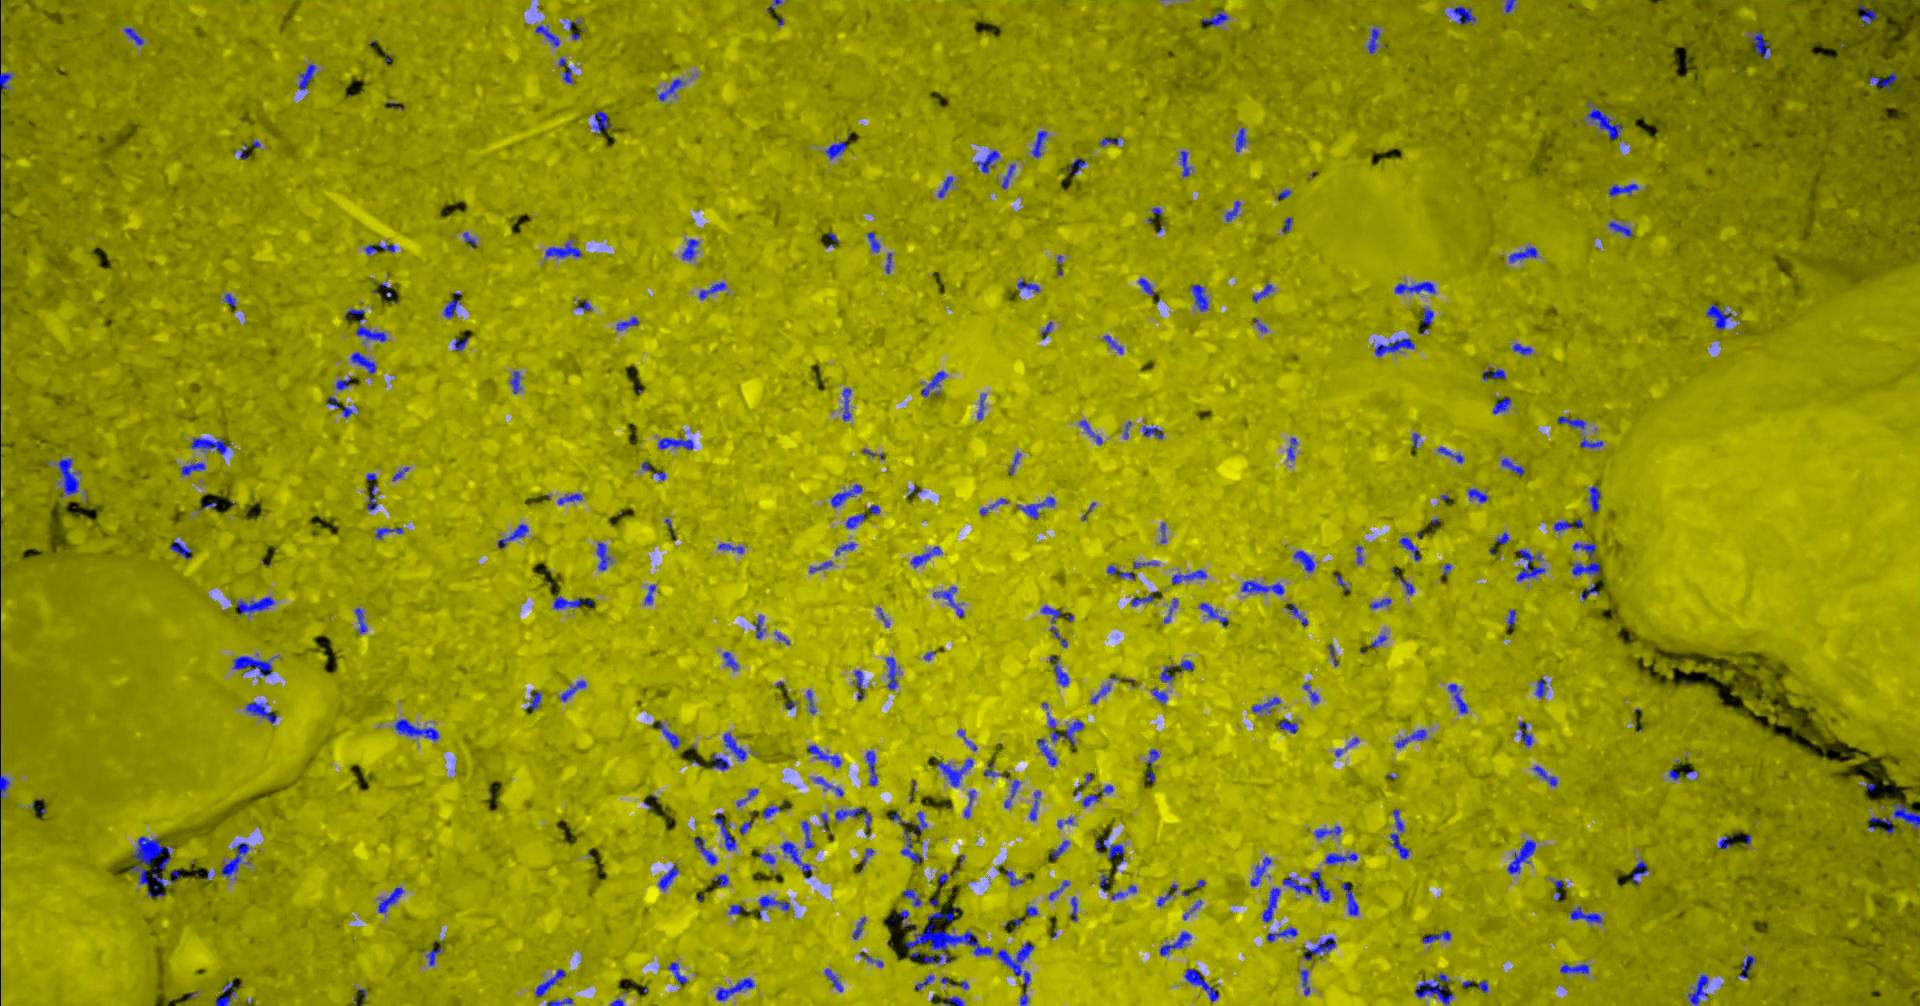ant: (131, 836, 170, 897), (1041, 702, 1083, 746), (996, 941, 1032, 986), (1283, 871, 1330, 902), (345, 307, 386, 340), (900, 810, 926, 862), (780, 840, 811, 878), (1415, 973, 1453, 1005), (1587, 105, 1622, 138), (1183, 968, 1218, 1001), (1040, 605, 1067, 647), (394, 718, 439, 741), (834, 807, 871, 835), (220, 842, 249, 876), (936, 758, 971, 786), (1516, 547, 1545, 580), (1506, 840, 1535, 873), (932, 586, 963, 616), (1571, 542, 1599, 575), (1015, 495, 1054, 518), (715, 977, 754, 1000), (535, 968, 565, 997), (1390, 809, 1408, 857), (1095, 835, 1125, 862), (232, 653, 272, 674), (714, 812, 735, 850), (55, 459, 77, 494), (1374, 337, 1415, 356), (1159, 931, 1191, 955), (1303, 936, 1335, 960), (1892, 801, 1919, 829), (497, 523, 527, 547), (1161, 659, 1192, 682), (808, 744, 841, 766), (919, 370, 946, 396), (1197, 602, 1227, 626), (830, 484, 861, 507), (1705, 304, 1732, 329), (236, 596, 274, 614), (723, 732, 745, 761), (1250, 856, 1271, 887), (377, 887, 403, 912), (657, 77, 684, 100), (658, 720, 681, 748), (693, 836, 716, 864), (1393, 728, 1426, 747), (1239, 580, 1284, 594), (910, 546, 941, 567), (1048, 655, 1068, 686), (245, 701, 276, 721), (1688, 974, 1708, 1005), (825, 133, 850, 159), (545, 240, 582, 257), (190, 437, 227, 453), (1749, 30, 1770, 58), (814, 776, 843, 796), (1262, 887, 1279, 922), (1078, 420, 1102, 445), (974, 150, 999, 173), (559, 680, 585, 701), (1036, 738, 1057, 766), (1448, 683, 1467, 713), (350, 351, 375, 373), (1531, 765, 1557, 786), (1341, 882, 1357, 915), (1171, 569, 1206, 584), (658, 864, 678, 890), (1570, 906, 1601, 922), (1284, 603, 1307, 626), (1145, 748, 1161, 782), (1394, 281, 1435, 293), (1266, 926, 1297, 942), (1868, 71, 1896, 89), (1030, 130, 1048, 158), (1398, 537, 1420, 560), (535, 25, 559, 46), (215, 981, 235, 1005), (1251, 696, 1280, 713), (298, 64, 316, 90), (1190, 285, 1208, 311), (1868, 815, 1895, 833), (1293, 550, 1314, 572), (1048, 879, 1069, 901), (758, 894, 789, 909), (698, 282, 726, 298), (979, 498, 1007, 514), (1451, 5, 1476, 24), (592, 111, 611, 135), (443, 292, 461, 318), (1437, 446, 1463, 464), (865, 749, 877, 785), (1630, 860, 1648, 885), (1201, 9, 1228, 25), (667, 962, 687, 983), (1509, 246, 1537, 262), (552, 594, 583, 608), (1003, 779, 1018, 807), (657, 437, 693, 448), (885, 655, 898, 688), (737, 788, 758, 807), (1858, 3, 1876, 25), (681, 238, 698, 260), (1110, 884, 1137, 899), (824, 968, 842, 991), (596, 542, 610, 570), (1106, 565, 1134, 579), (557, 57, 573, 83), (1608, 183, 1638, 196), (1252, 282, 1272, 301), (957, 729, 977, 749), (169, 540, 190, 558), (1501, 457, 1524, 474), (1738, 954, 1755, 977), (1553, 518, 1582, 531), (963, 789, 975, 818), (1421, 930, 1450, 942), (1608, 221, 1632, 236), (1517, 721, 1533, 746), (858, 951, 883, 967), (1090, 683, 1109, 702), (123, 27, 143, 44), (709, 752, 729, 770), (1001, 163, 1015, 188), (1557, 415, 1585, 428), (800, 821, 813, 848), (1103, 335, 1123, 353), (1397, 575, 1415, 594), (1314, 826, 1341, 838), (1163, 598, 1177, 622), (1302, 682, 1318, 702), (1324, 854, 1357, 864), (937, 868, 957, 884), (1029, 791, 1040, 821), (937, 175, 952, 197), (1224, 199, 1239, 221), (1142, 424, 1163, 439), (1275, 718, 1297, 733), (354, 607, 367, 633), (615, 316, 637, 330), (375, 527, 403, 539), (1137, 277, 1154, 295), (1050, 840, 1068, 857), (1004, 869, 1023, 885), (364, 244, 395, 254), (844, 513, 865, 528), (526, 691, 541, 711), (1481, 367, 1505, 380), (1578, 436, 1603, 448), (180, 462, 204, 475), (1368, 27, 1379, 53), (1178, 150, 1190, 177), (366, 484, 377, 511), (1589, 485, 1600, 512), (1467, 488, 1488, 502), (1559, 963, 1589, 973), (1492, 396, 1510, 413), (903, 888, 919, 906), (1130, 593, 1153, 606), (914, 974, 933, 989), (557, 493, 582, 504), (808, 560, 832, 572), (752, 614, 763, 638), (834, 542, 856, 555), (1552, 879, 1564, 901), (852, 916, 865, 937), (1068, 158, 1084, 174), (1581, 583, 1597, 600), (723, 652, 738, 669), (425, 948, 441, 965), (1016, 279, 1039, 291), (855, 669, 863, 699), (866, 231, 879, 251), (717, 542, 743, 553), (1300, 969, 1310, 995), (842, 387, 850, 420), (1081, 793, 1098, 807), (509, 371, 521, 392), (1369, 597, 1390, 608), (1236, 127, 1246, 151), (1422, 307, 1432, 332), (977, 392, 985, 419), (0, 72, 11, 93), (1286, 437, 1297, 460), (1150, 688, 1167, 702), (1512, 343, 1531, 354), (644, 584, 655, 603), (806, 688, 815, 713), (0, 774, 9, 798), (462, 231, 476, 246), (453, 337, 469, 351), (1718, 835, 1733, 848), (1369, 634, 1385, 647), (335, 377, 350, 390), (712, 874, 728, 887), (1069, 895, 1077, 921), (1535, 680, 1545, 697), (762, 807, 780, 817), (757, 852, 775, 862), (549, 997, 571, 1005), (943, 996, 963, 1005), (1507, 608, 1515, 629), (1098, 137, 1117, 145), (1503, 0, 1515, 11), (728, 904, 740, 915)
